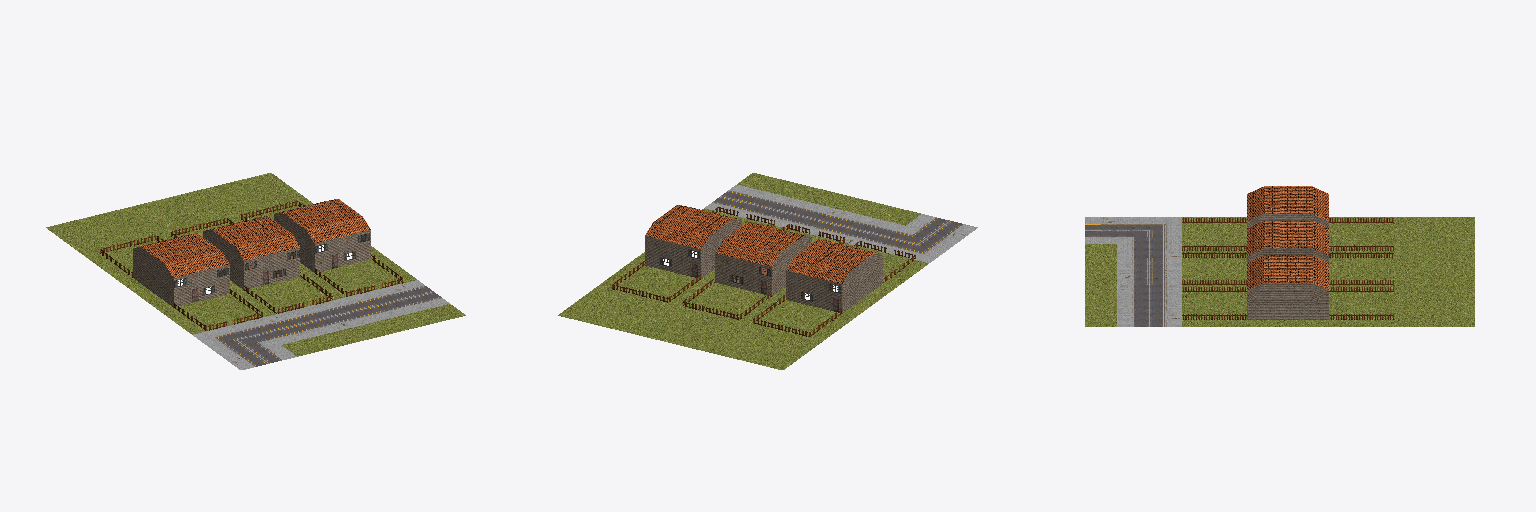
The picture shows the model from 3 angles: view 1: azimuth 30°, elevation 25°; view 2: azimuth 150°, elevation 25°; view 3: azimuth 270°, elevation 25°; orthographic projection.
Parts seen in each view (by area): view 1: Cube_Cube.001; view 2: Cube_Cube.001; view 3: Cube_Cube.001.
Part boxes in pixels (x1,y1,x2,y2): Cube_Cube.001: (46,173,465,369); Cube_Cube.001: (558,173,977,369); Cube_Cube.001: (1085,186,1474,326).
Bounding box in the file's own units: 32 × 5.78 × 48.
2 materials, 1 textured.